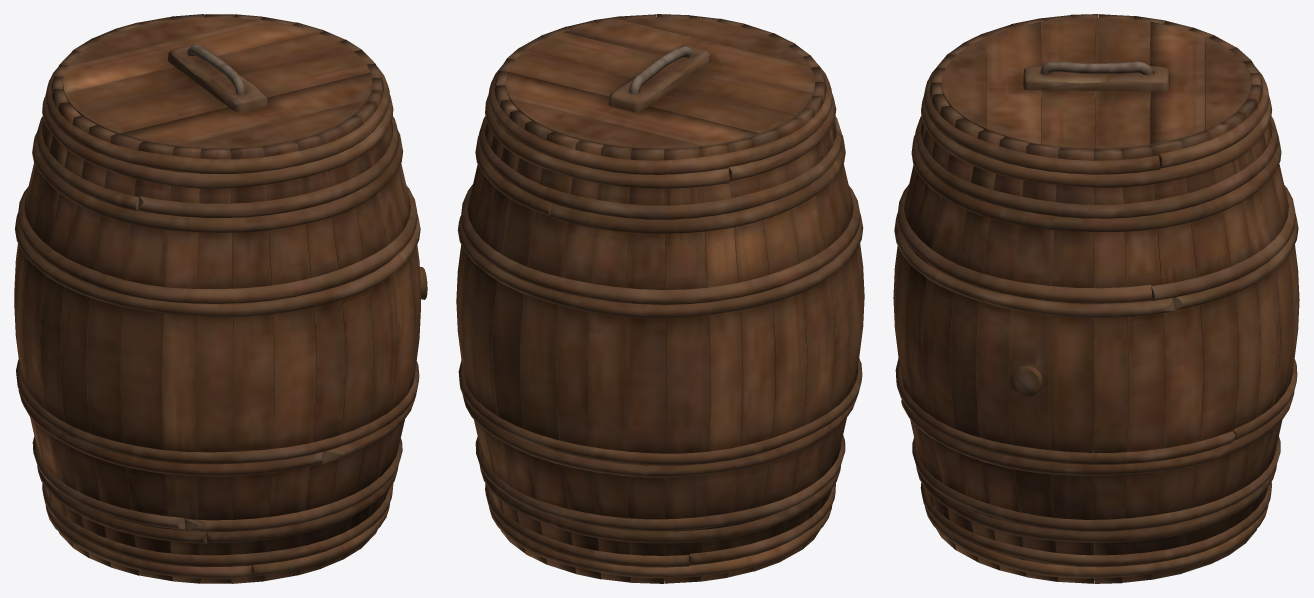
File: fass1.glb
3 renders of one model, left to right at view 1: azimuth 30°, elevation 25°; view 2: azimuth 150°, elevation 25°; view 3: azimuth 270°, elevation 25°, orthographic.
Visible parts, largest first — view 1: wooden_barrels_01_barrel01; view 2: wooden_barrels_01_barrel01; view 3: wooden_barrels_01_barrel01.
Boxes of the visible parts, bbox=[...] form: wooden_barrels_01_barrel01: bbox=[14, 14, 427, 583]; wooden_barrels_01_barrel01: bbox=[456, 14, 864, 583]; wooden_barrels_01_barrel01: bbox=[893, 14, 1299, 583].
Bounding box in the file's own units: 0.743 × 0.9168 × 0.743.
1 material, 1 textured.
